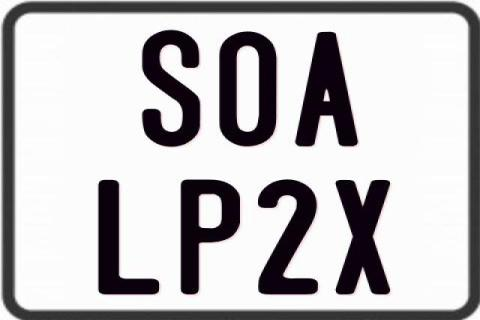0: (255, 179, 316, 297), (218, 30, 279, 146)
A: (294, 32, 360, 151)
L: (98, 180, 164, 298)
P: (180, 178, 242, 294)
S: (140, 30, 200, 152)
X: (334, 180, 390, 295)
